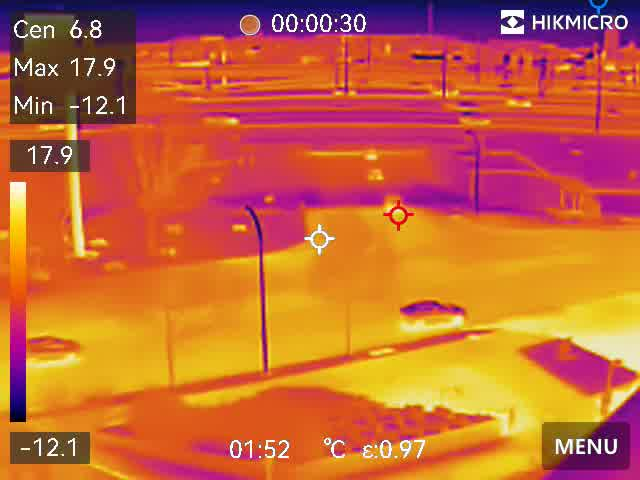smallCar: (397, 298, 471, 327), (25, 335, 82, 363)
vehicle: (198, 109, 241, 127), (457, 113, 493, 129), (503, 94, 532, 111), (364, 165, 384, 187), (328, 86, 359, 99), (432, 87, 461, 98), (362, 147, 380, 161)
